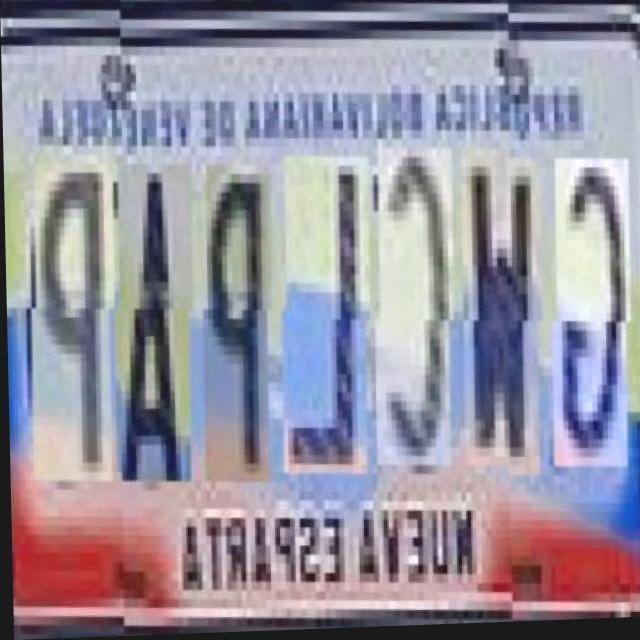a: (110, 168, 191, 490)
c: (371, 152, 452, 473)
g: (547, 152, 628, 464)
l: (277, 160, 368, 482)
p: (26, 167, 112, 499), (199, 168, 270, 490)
w: (454, 151, 540, 473)
